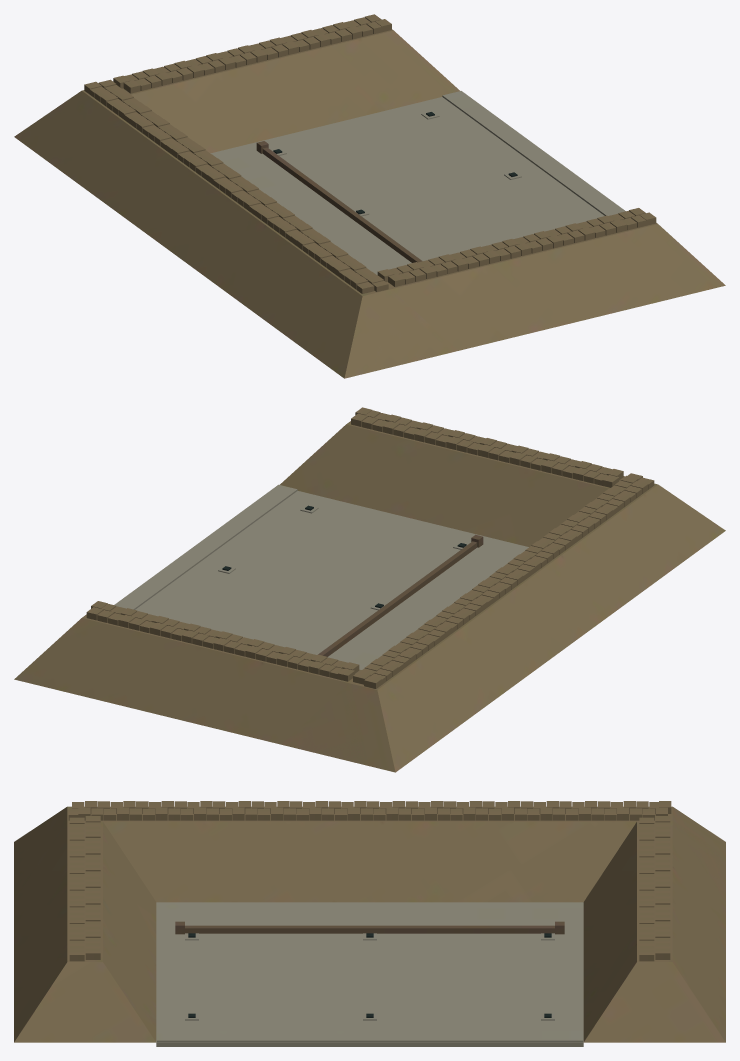
File: revetment.glb
3 views of the same model, one above another, from view 1: azimuth 30°, elevation 25°; view 2: azimuth 150°, elevation 25°; view 3: azimuth 270°, elevation 25° (orthographic). The views are drawn at different scales.
Visible parts, largest first — view 1: revetment_concrete; view 2: revetment_concrete; view 3: revetment_concrete.
Part boxes in pixels (x1=…): revetment_concrete: x1=14, y1=14, x2=725, y2=378; revetment_concrete: x1=14, y1=407, x2=725, y2=772; revetment_concrete: x1=14, y1=801, x2=725, y2=1046.
Size of the model in its own units: 20 by 3.2 by 30.
1 material, 1 textured.
